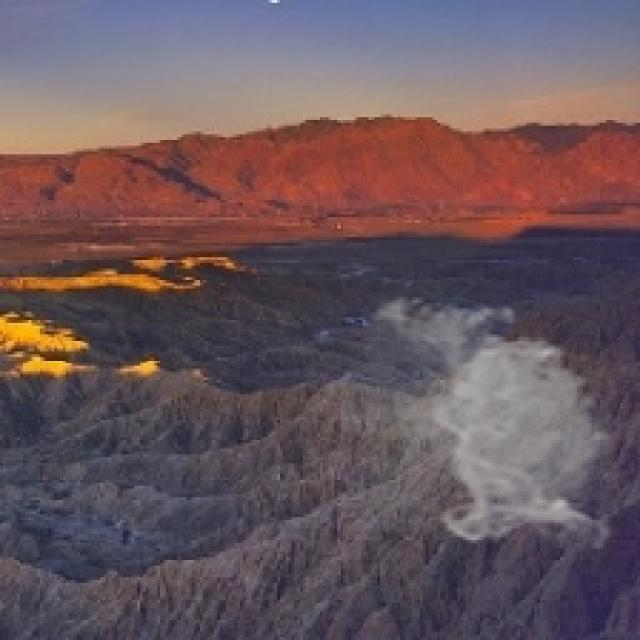smoke: (340, 288, 620, 548)
